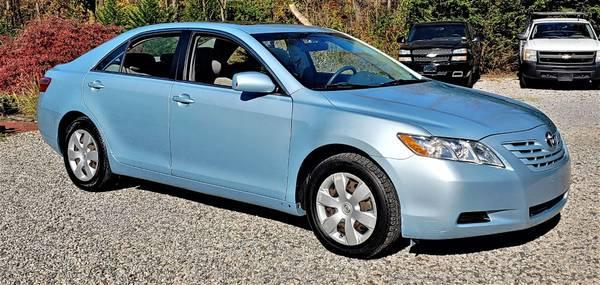Front_Bumper: (370, 140, 571, 238)
Front_Fender: (285, 88, 435, 214)
Front_Right_Door: (171, 81, 292, 209)
Front_Right_Window: (177, 30, 295, 100)
Front_Windshield: (260, 35, 437, 91)
Grille: (496, 122, 569, 175)
Hood: (324, 83, 550, 142)
Rear_Bumper: (36, 108, 61, 159)
Rear_Fender: (38, 67, 89, 118)
Rear_Right_Door: (84, 71, 178, 183)
Rear_Right_Window: (93, 29, 190, 81)
Right_Headlight: (397, 133, 506, 168)
Right_Taillight: (36, 75, 51, 94)
Roof: (58, 21, 335, 98)
Wheel: (302, 153, 398, 259), (63, 120, 102, 191)
